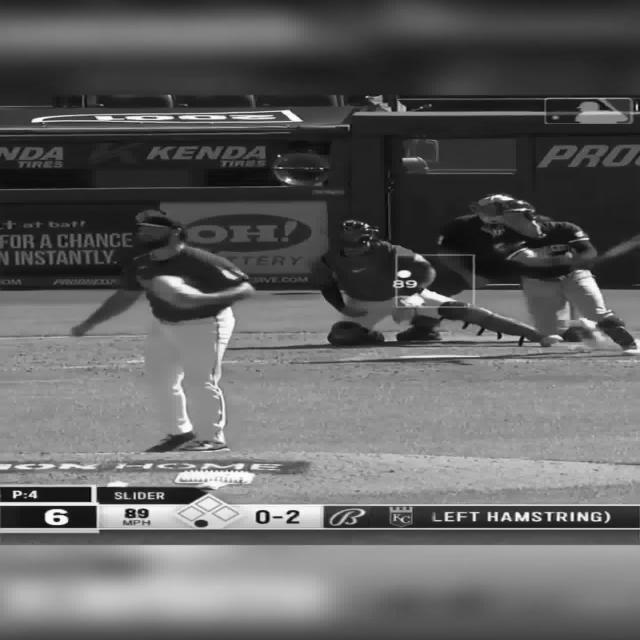baseball_glove: (155, 278, 210, 304)
shoe: (326, 321, 384, 346), (144, 432, 195, 452), (396, 326, 442, 341), (176, 439, 228, 452), (562, 325, 594, 342), (539, 334, 563, 347), (362, 330, 384, 343), (619, 340, 637, 351)
